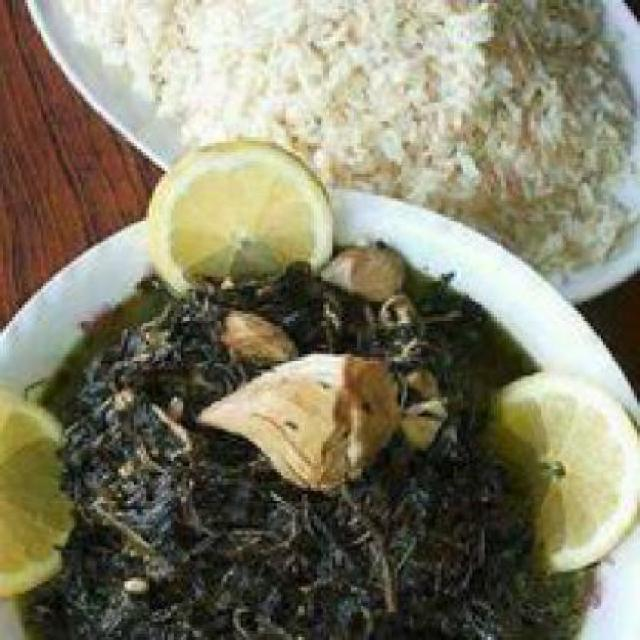molokhia: (28, 258, 594, 638)
